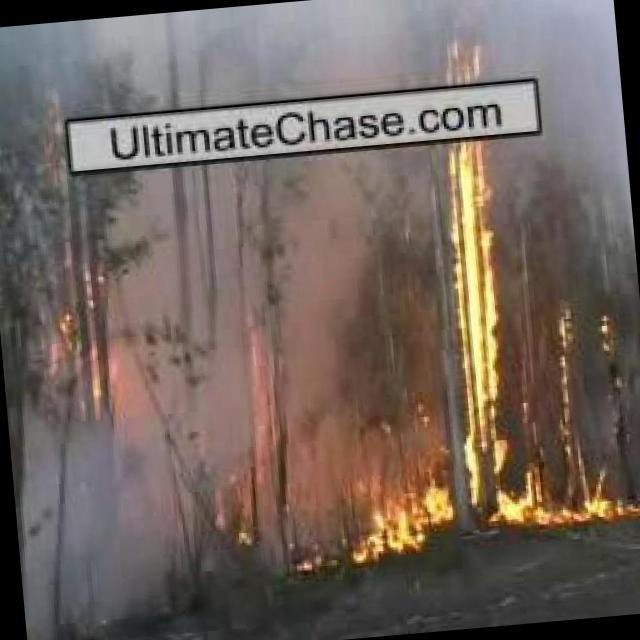Fire: (447, 139, 517, 532), (559, 313, 640, 529), (352, 479, 452, 568), (50, 295, 120, 416)
Smoke: (104, 161, 401, 608), (0, 0, 619, 123), (7, 413, 145, 640)
